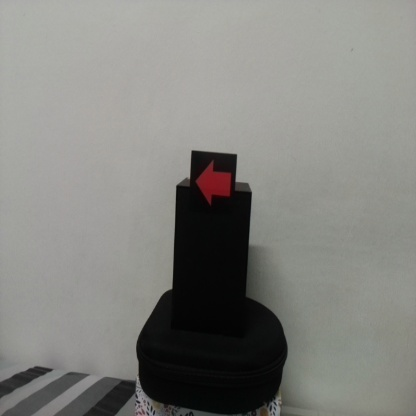id_4: (190, 152, 237, 220)
